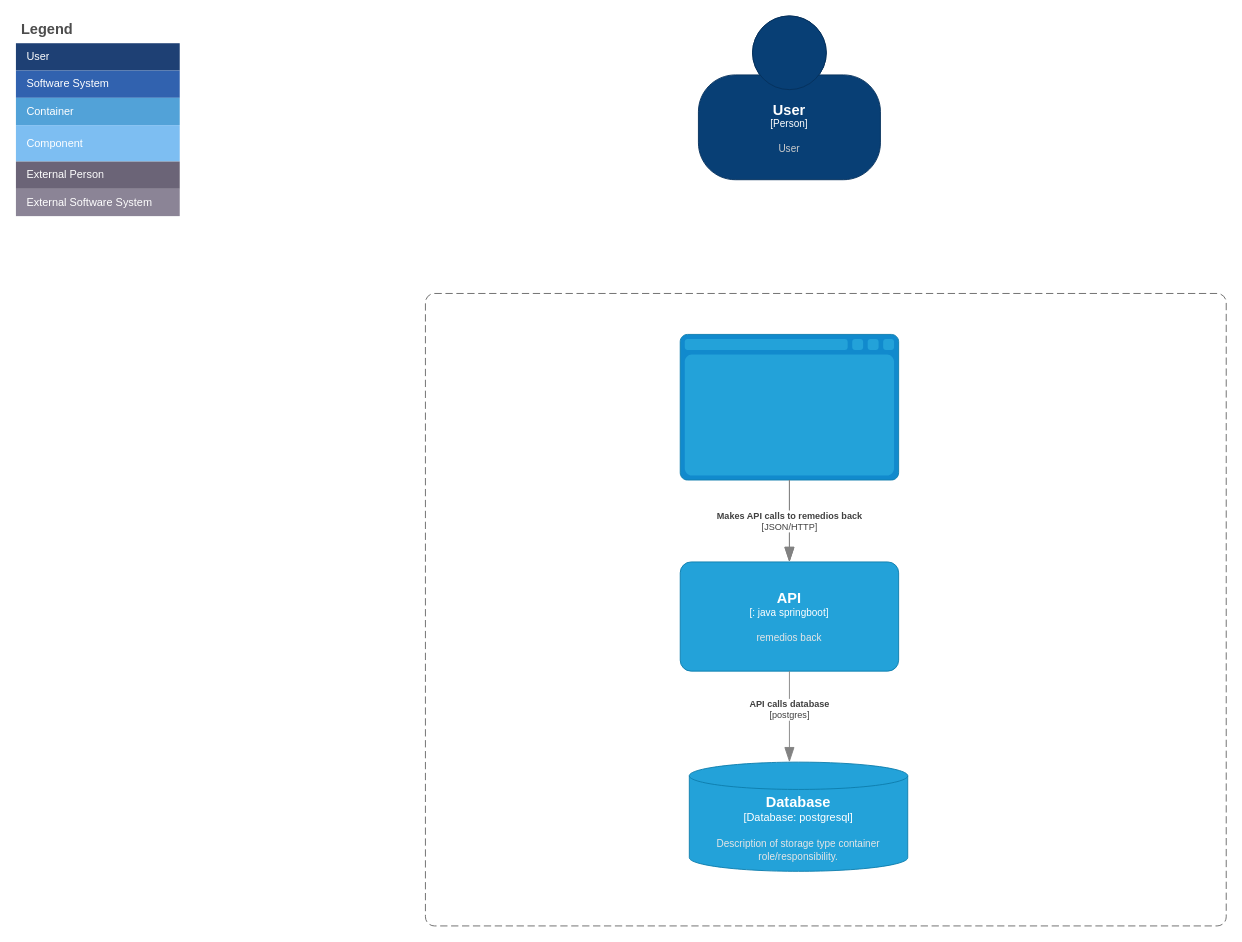
This 1242x942 diagram has some shape labels left out. Here are the shapes that lost their labels. From the top down, the box of each, then its label:
(679, 334, 899, 480): web app [web app : e.g. JavaScript, Angular etc.] remedios front
(425, 293, 1226, 926): remedios system [Software System]
